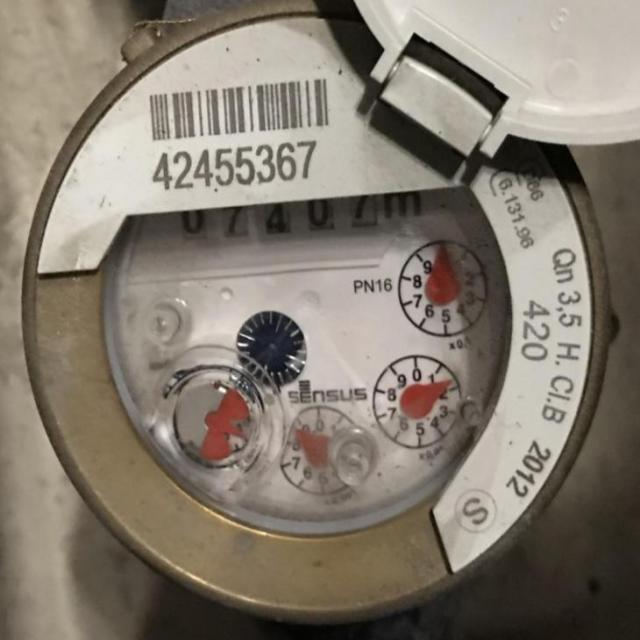gaz_meter: (28, 9, 602, 613)
indication: (160, 185, 415, 271)
